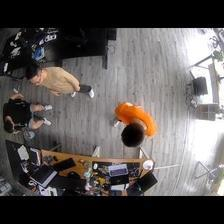normal: (25, 62, 95, 99), (111, 100, 159, 148), (1, 94, 53, 133)
